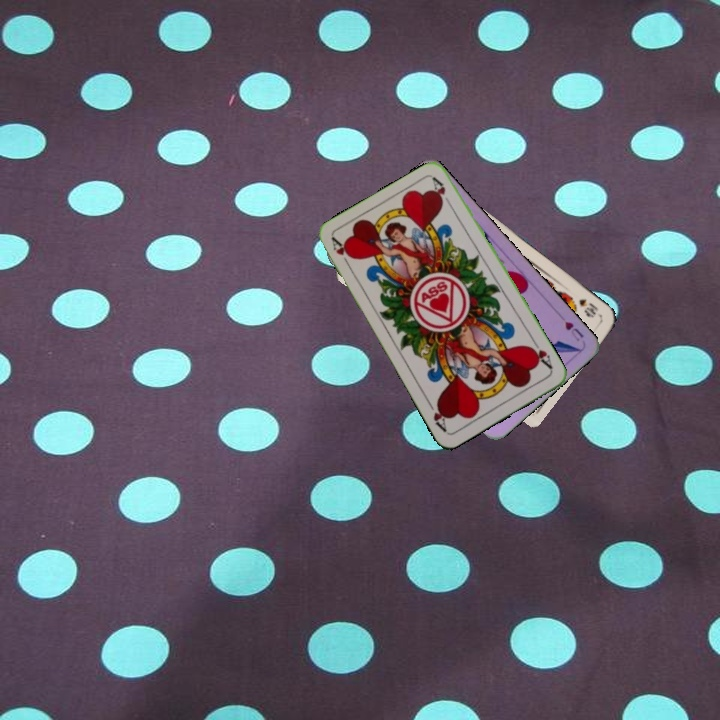HA: (525, 336, 556, 372), (328, 234, 356, 272)
HU: (560, 317, 586, 344)
S10: (575, 295, 604, 319)
